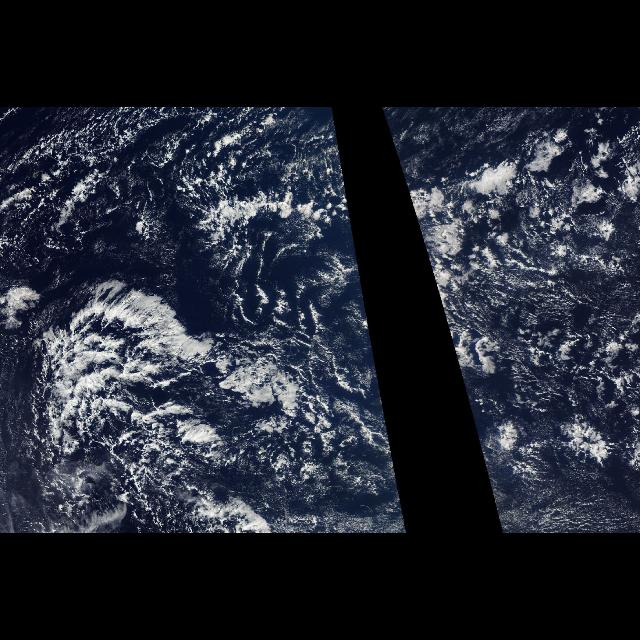Fish: (22, 247, 306, 528)
Gravel: (443, 222, 639, 534), (20, 115, 210, 193)
